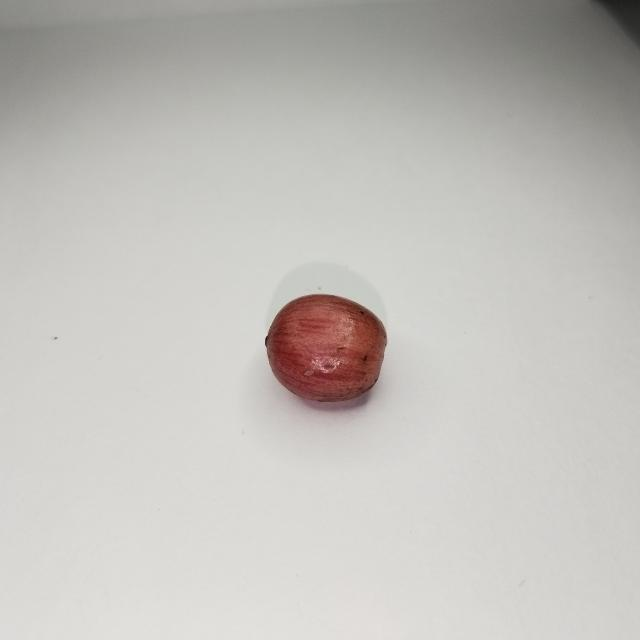Sano: (266, 295, 385, 401)
